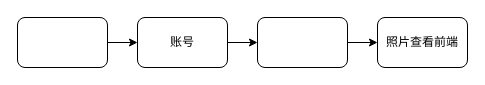
Image size: 485x85. Some labels were removed from this diagram. The shapes that lost their labels are listed below. From the top down, each one's centre as x and y in pixels, then its label:
At (62,42): "拍照终端".
At (302,42): "存储系统".
